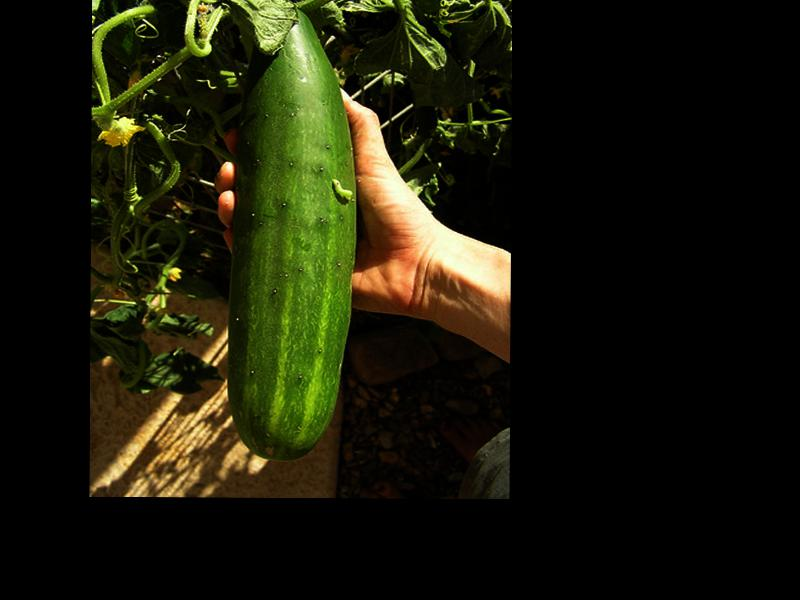Cucumber: (226, 3, 357, 461)
